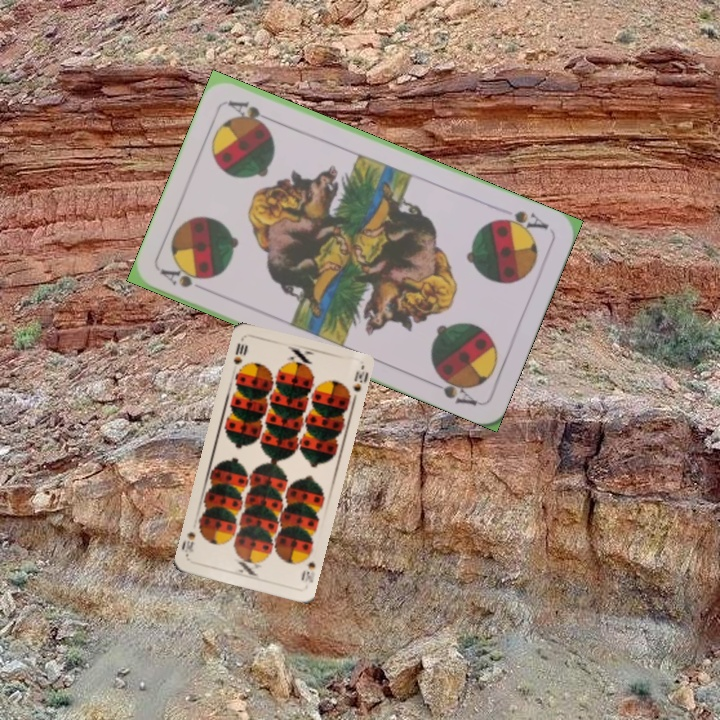S10: (297, 548, 318, 585), (229, 339, 250, 367)
SA: (492, 206, 552, 237), (156, 263, 210, 291)
